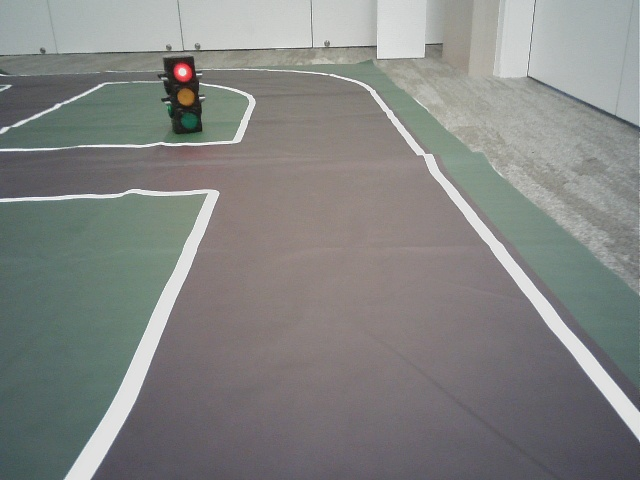red: (170, 59, 199, 129)
